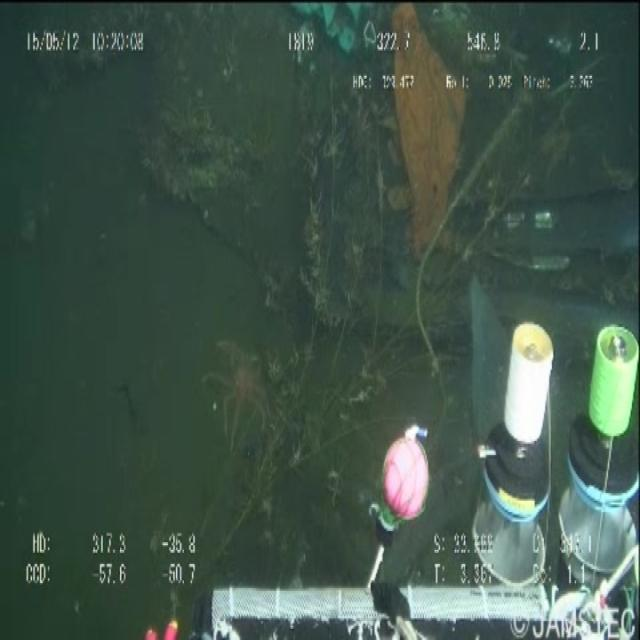Accessories: (382, 3, 474, 264), (296, 7, 369, 67)
Rope: (402, 79, 544, 399)
